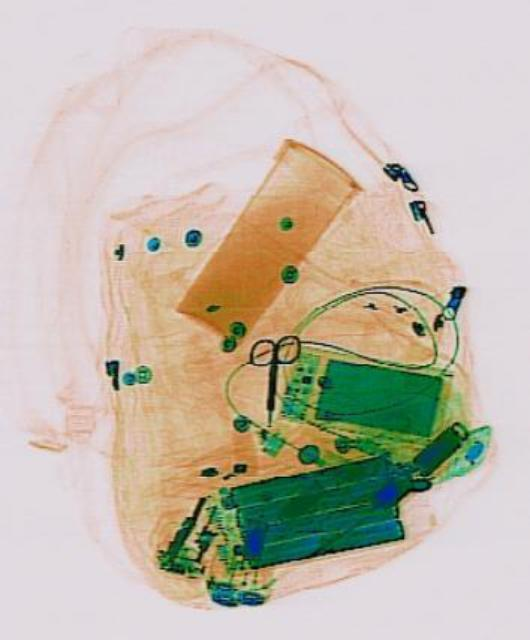Scissors: (242, 330, 298, 426)
